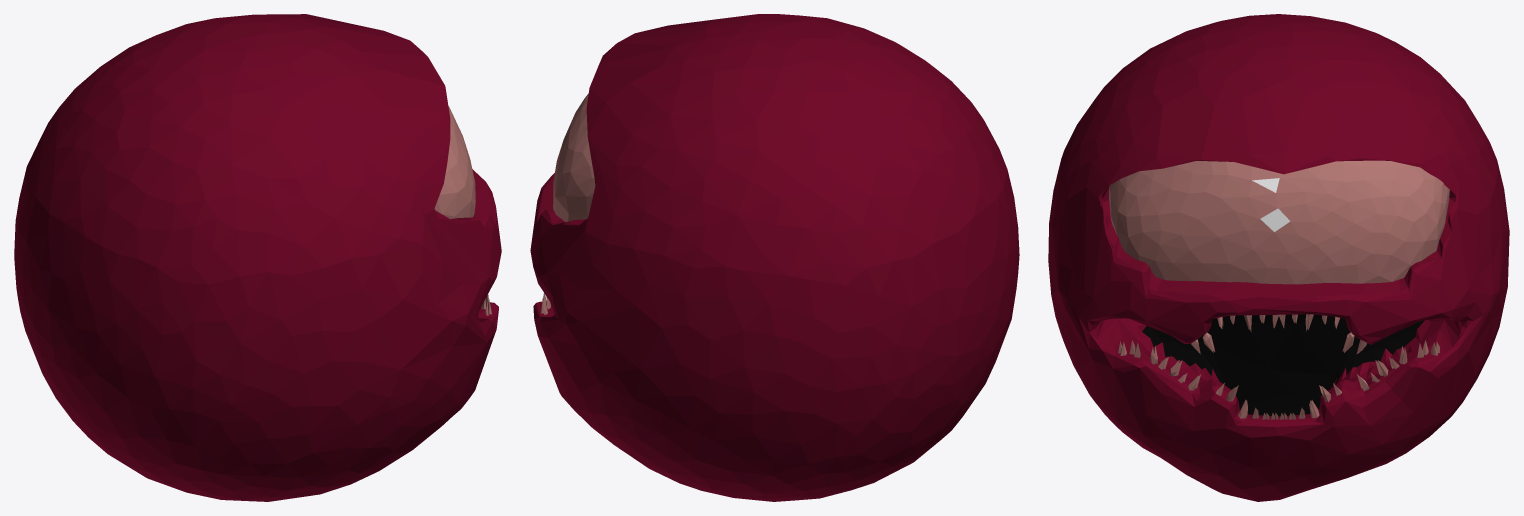
Rendered from Pacman.glb.
3 views of the same model, side by side, from view 1: azimuth 30°, elevation 25°; view 2: azimuth 150°, elevation 25°; view 3: azimuth 270°, elevation 25° (orthographic). The views are drawn at different scales.
Parts seen in each view (by area): view 1: Cube.028; view 2: Cube.028; view 3: Cube.028.
Part boxes in pixels (bbox=[...]): Cube.028: bbox=[14, 14, 501, 501]; Cube.028: bbox=[530, 14, 1019, 501]; Cube.028: bbox=[1048, 14, 1509, 501].
Size of the model in its own units: 9.56 by 9.63 by 9.55.
